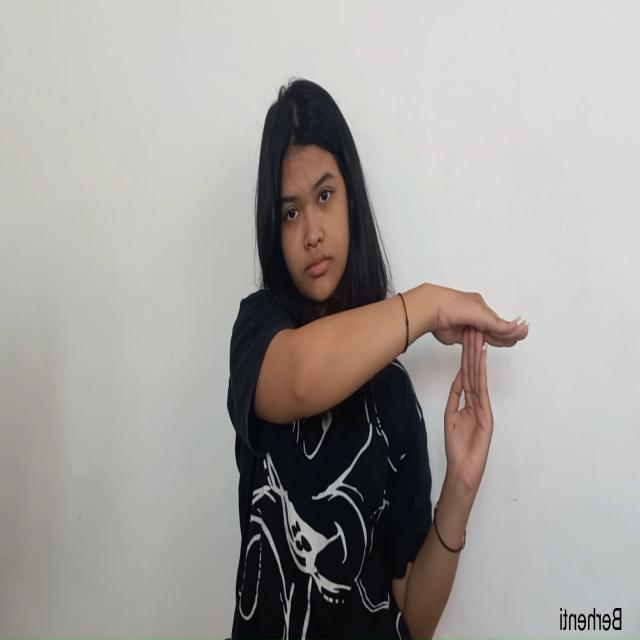Berhenti -BISINDO-: (418, 280, 532, 504)
